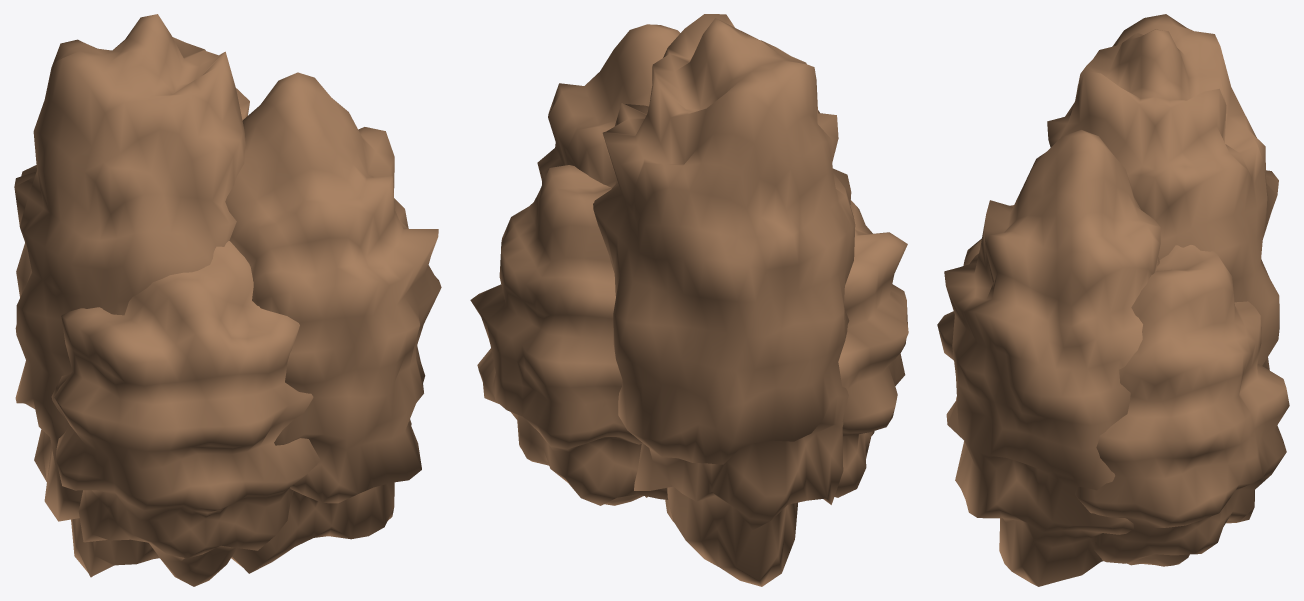
File: MesaCrag.fbx
3 views of the same model, side by side, from view 1: azimuth 30°, elevation 25°; view 2: azimuth 150°, elevation 25°; view 3: azimuth 270°, elevation 25° (orthographic). The views are drawn at different scales.
Visible parts, largest first — view 1: Eroded formation.009_export, Eroded formation.010_export, Eroded formation.008_export; view 2: Eroded formation.010_export, Eroded formation.011_export, Eroded formation.008_export, Eroded formation.009_export; view 3: Eroded formation.009_export, Eroded formation.011_export, Eroded formation.010_export, Eroded formation.008_export.
Boxes of the visible parts, <box> form: Eroded formation.009_export: <box>225,72,441,573</box>; Eroded formation.010_export: <box>14,14,249,577</box>; Eroded formation.008_export: <box>51,241,320,586</box>; Eroded formation.010_export: <box>593,14,855,586</box>; Eroded formation.011_export: <box>470,165,668,505</box>; Eroded formation.008_export: <box>834,200,908,497</box>; Eroded formation.009_export: <box>537,24,680,497</box>; Eroded formation.009_export: <box>944,130,1160,586</box>; Eroded formation.011_export: <box>1075,245,1289,566</box>; Eroded formation.010_export: <box>1047,14,1279,370</box>; Eroded formation.008_export: <box>937,205,1013,399</box>.
Size of the model in its own units: 990 by 1401 by 845.
